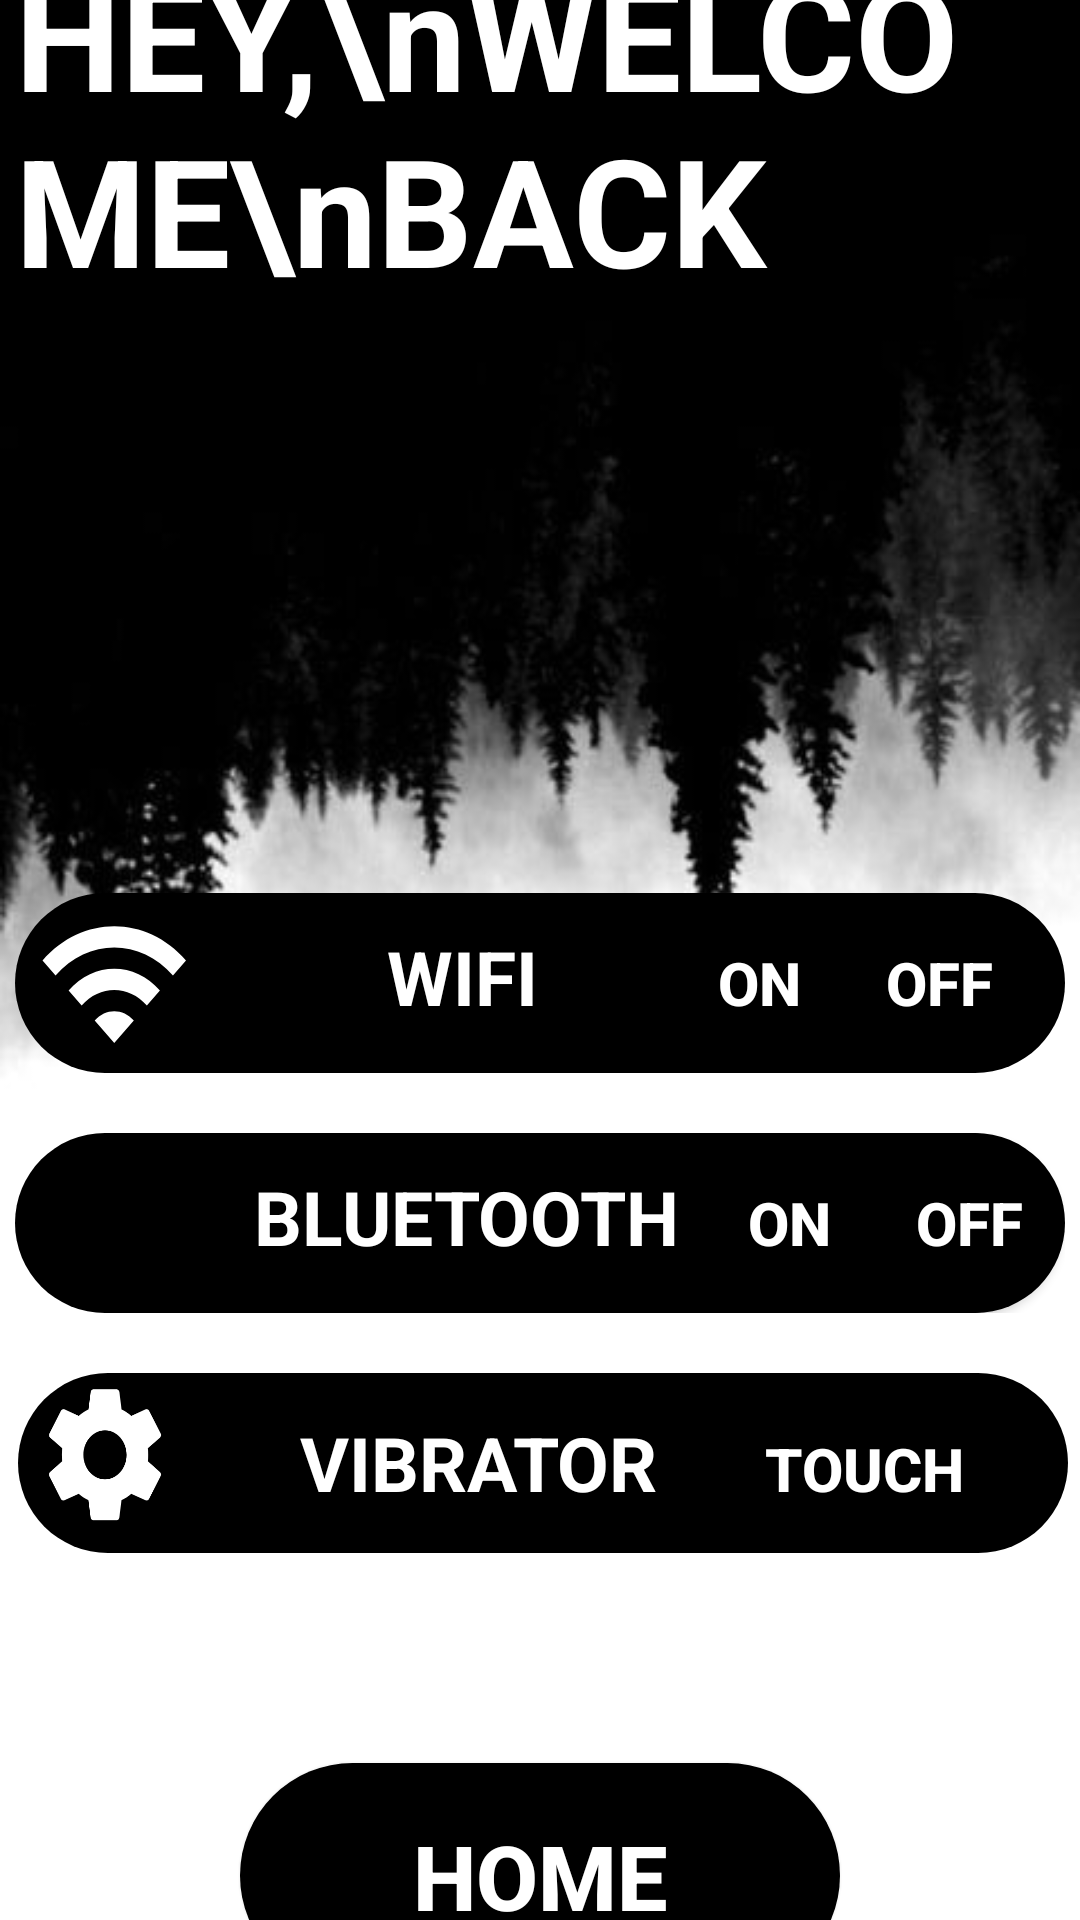

Icons on this 1080×1920 Android screen, each with its box as BBox(x1, y1, x2, y2):
settings: BBox(49, 1389, 161, 1521)
